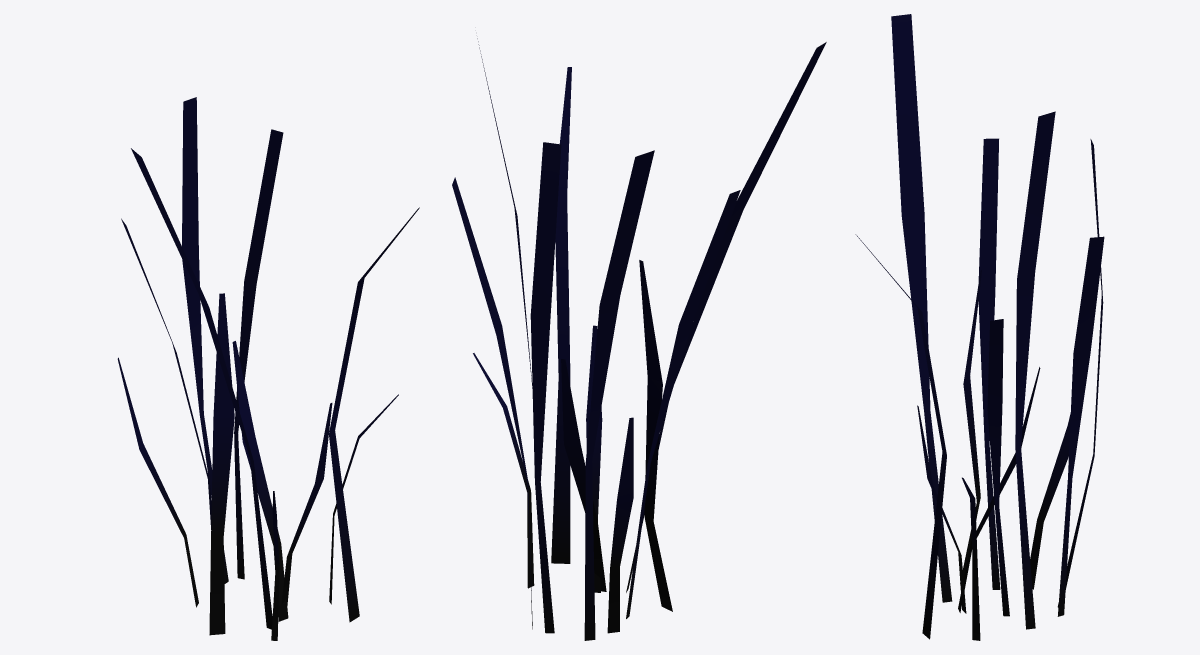
File: SM_Foliage_ReedDry_04.fbx
3 renders of one model, left to right at view 1: azimuth 30°, elevation 25°; view 2: azimuth 150°, elevation 25°; view 3: azimuth 270°, elevation 25°, orthographic. The views are drawn at different scales.
Visible parts, largest first — view 1: SM_Foliage_ReedDry_04; view 2: SM_Foliage_ReedDry_04; view 3: SM_Foliage_ReedDry_04.
Part boxes in pixels (x1,y1,x2,y2): SM_Foliage_ReedDry_04: (117, 97, 419, 640); SM_Foliage_ReedDry_04: (452, 38, 826, 640); SM_Foliage_ReedDry_04: (855, 14, 1104, 640).
Size of the model in its own units: 74.57 by 74.52 by 133.
